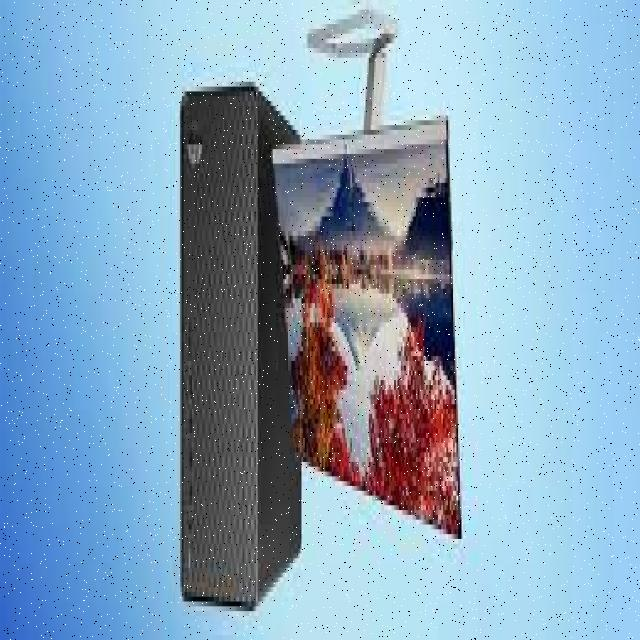Computer: (173, 80, 280, 618)
Monitor: (269, 130, 476, 574)
